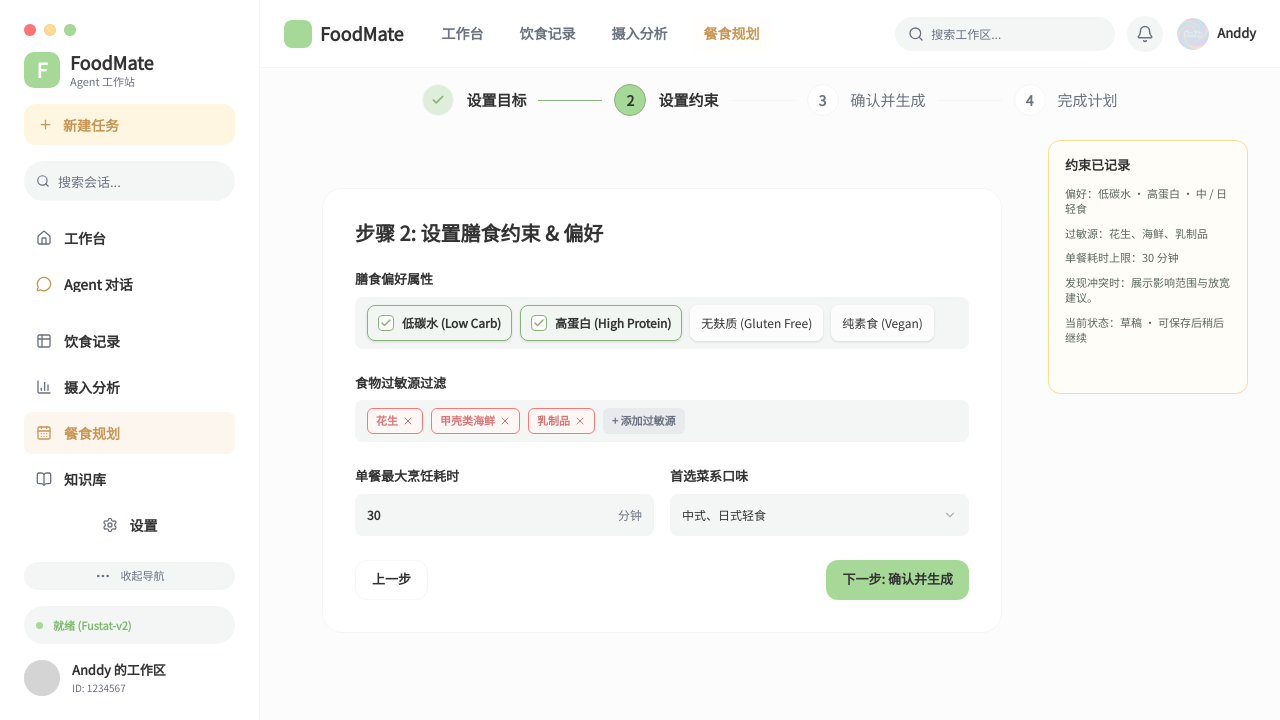
Test: PlanningPage › uses the shadcn select for cuisine preferences
Step 1. Click the dropdown named "首选菜系口味" → [724, 514], box x1=670 y1=494 x2=969 y2=536
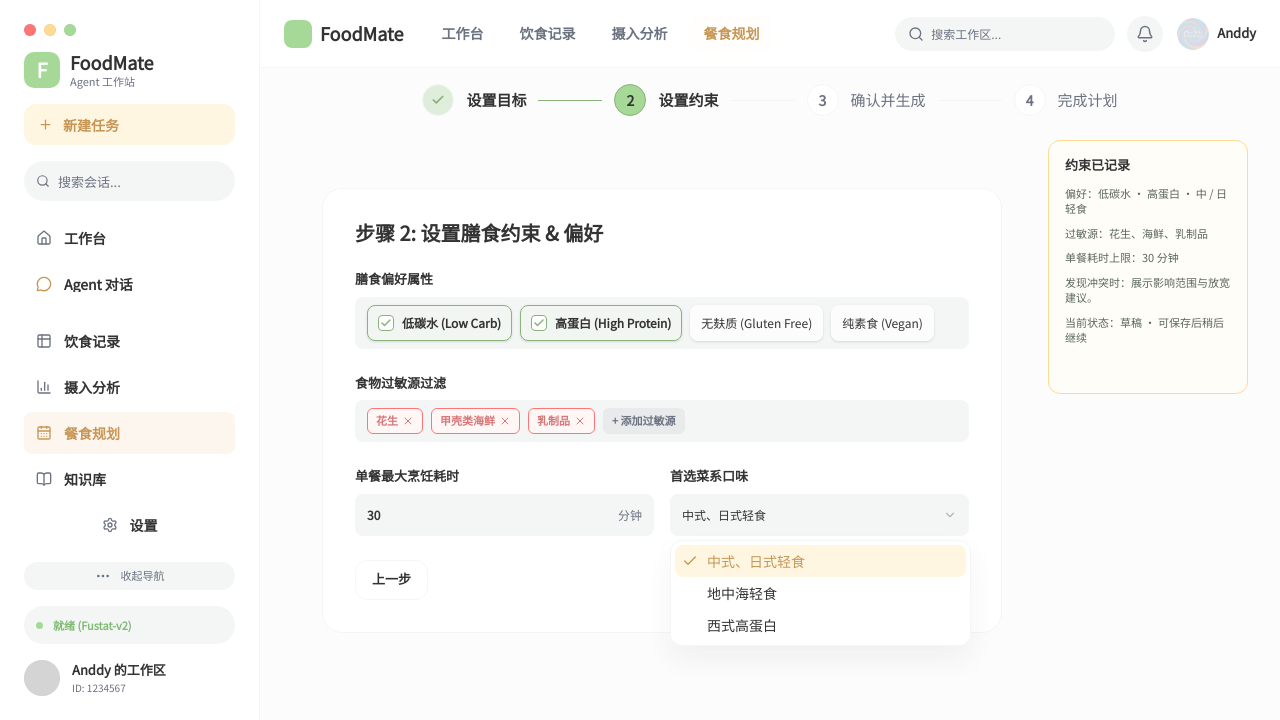
Step 2. Click the option "地中海轻食" → [742, 593], box x1=707 y1=583 x2=777 y2=603
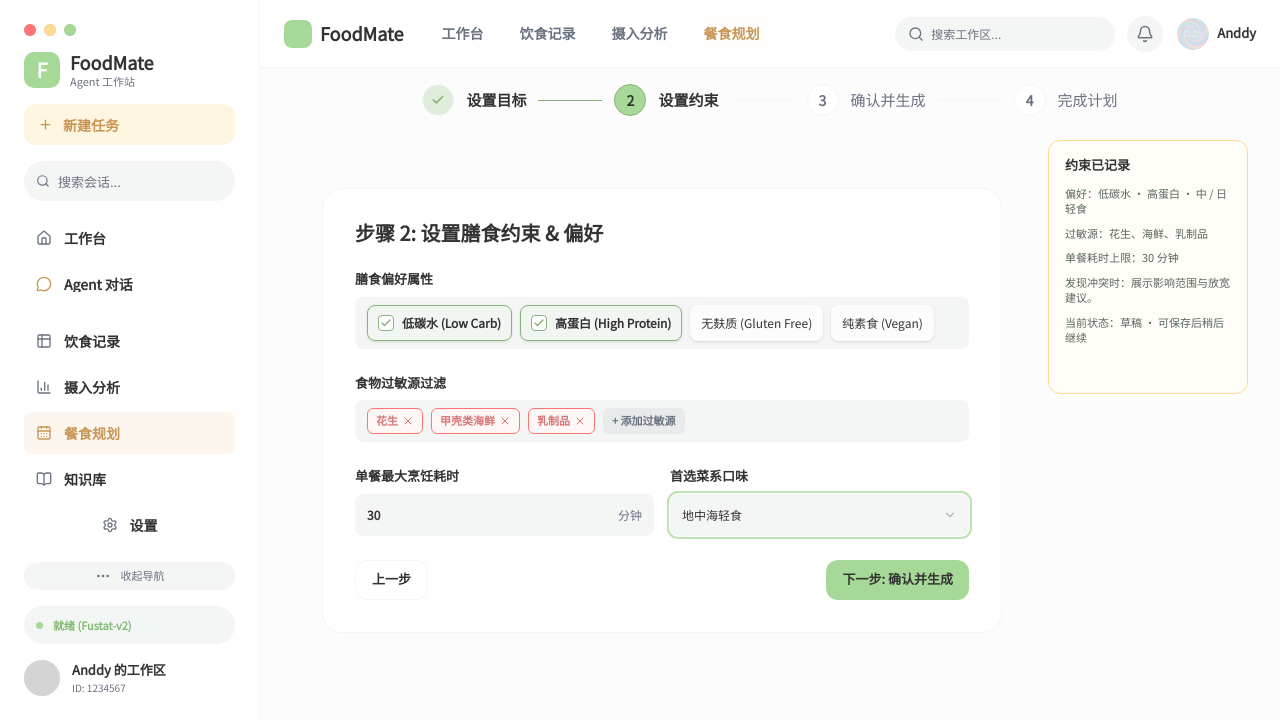
Expected: the dropdown named "首选菜系口味" reads "地中海轻食", x1=670 y1=494 x2=969 y2=536
